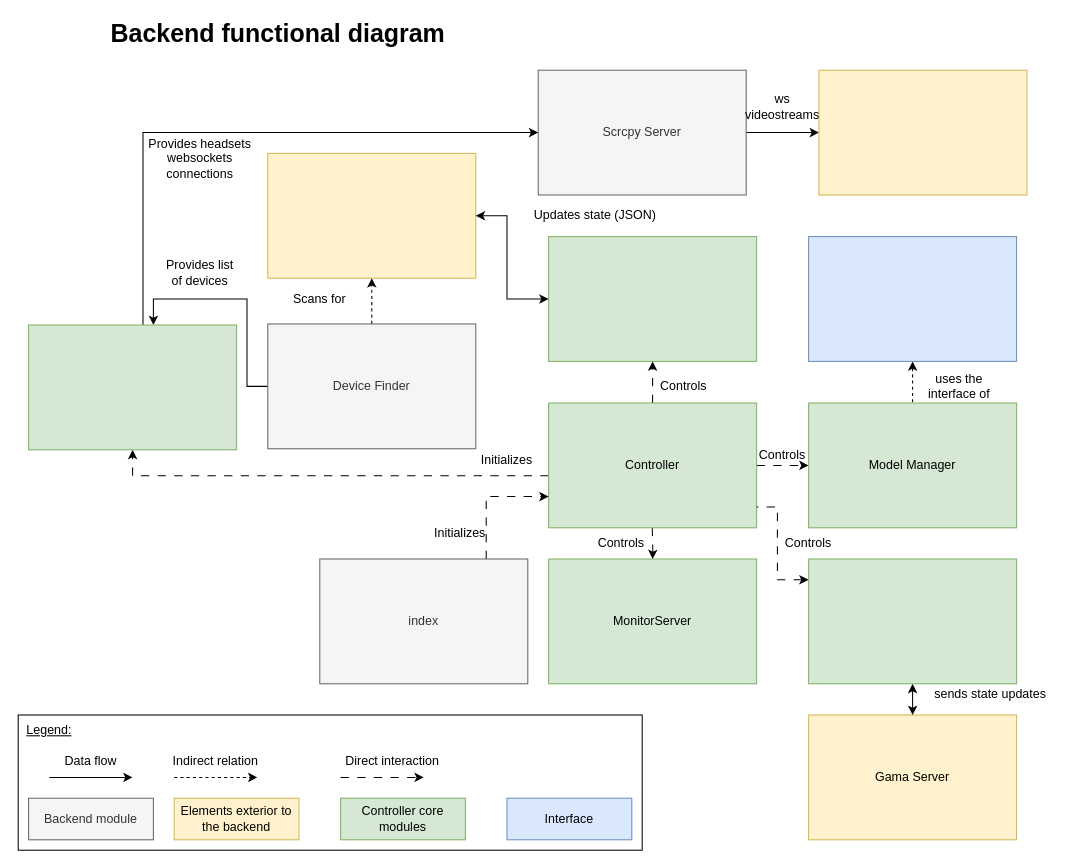
This 1066x868 diagram has some shape labels left out. The centre of each missing label's shape, as x and y in pixels:
"AdbManager" belongs at point (132, 387).
"Gama connector" belongs at point (912, 621).
"Headsets" belongs at point (371, 215).
"Model" belongs at point (912, 298).
"PlayerManager" belongs at point (652, 298).
"WebSocketManager (Frontend component)" belongs at point (922, 132).
